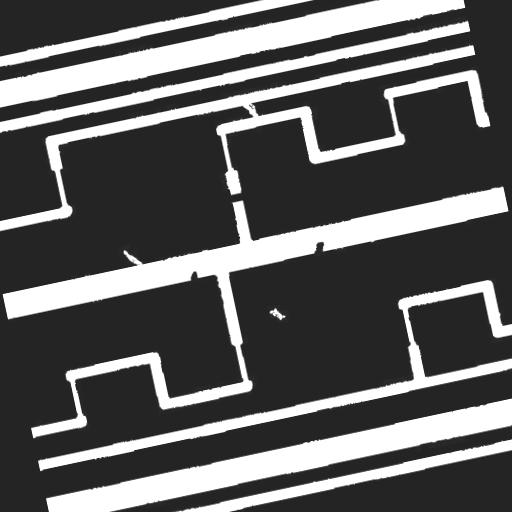mousebite: (114, 237, 152, 281)
open: (233, 90, 267, 128)
pin-hole: (260, 296, 294, 330)
short: (216, 182, 255, 212)
spur: (303, 232, 334, 263), (180, 261, 206, 290)
